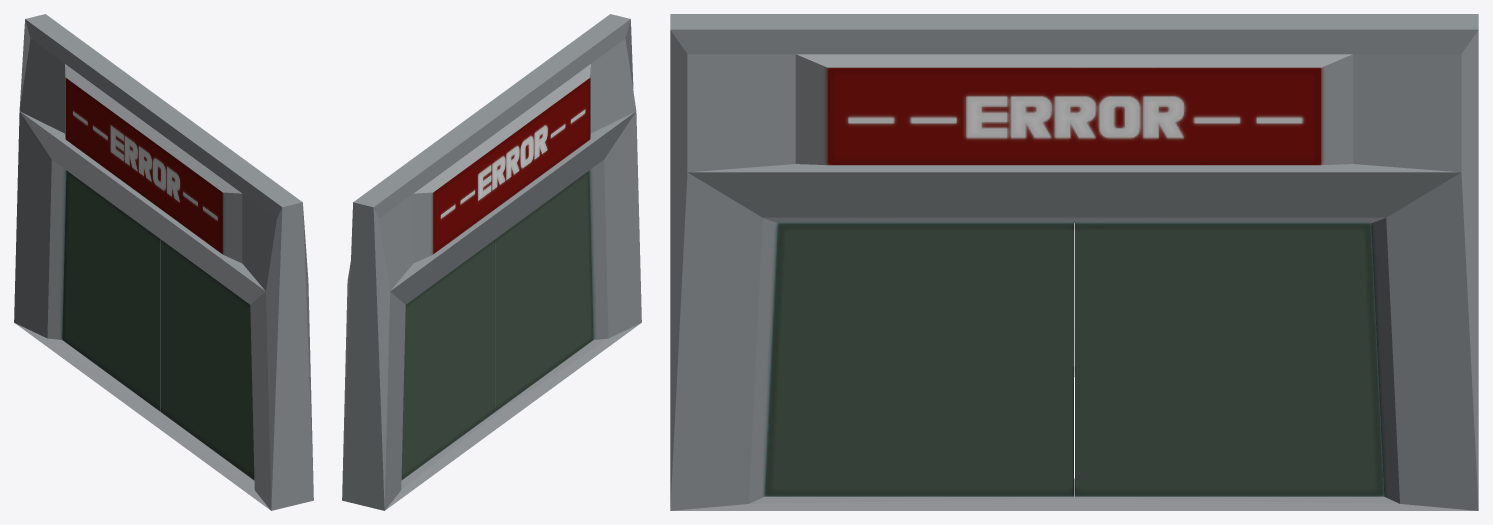
The model's file is wall_door_closed.obj.
3 renders of one model, left to right at view 1: azimuth 30°, elevation 25°; view 2: azimuth 150°, elevation 25°; view 3: azimuth 270°, elevation 25°, orthographic. The views are drawn at different scales.
Parts seen in each view (by area): view 1: walldoorclosed2:pCube1; view 2: walldoorclosed2:pCube1; view 3: walldoorclosed2:pCube1.
Boxes of the visible parts, left/top/right/bottom form: walldoorclosed2:pCube1: left=14, top=14, right=313, bottom=510; walldoorclosed2:pCube1: left=342, top=14, right=641, bottom=510; walldoorclosed2:pCube1: left=670, top=14, right=1478, bottom=510.
Bounding box in the file's own units: 0.54 × 3.65 × 5.66.
Materials: 1 (1 with a texture image).
